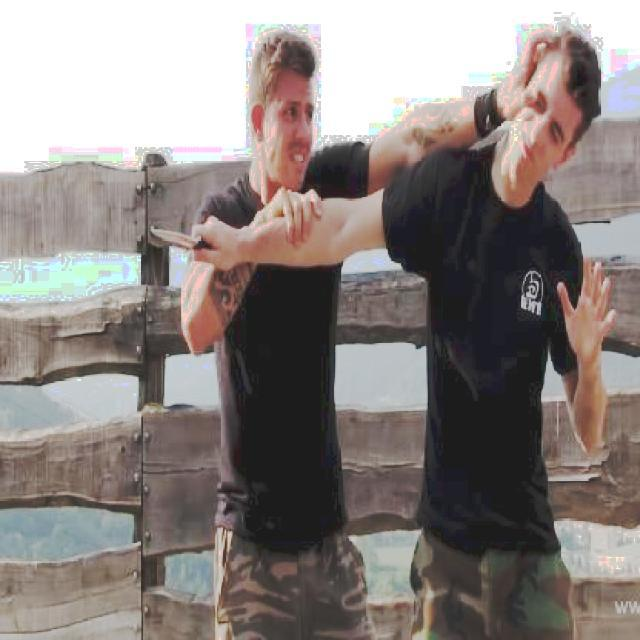Knife: (144, 218, 218, 252)
